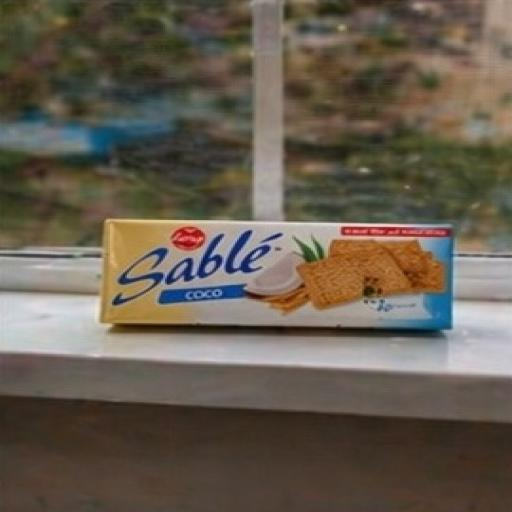sable: (52, 181, 480, 386)
